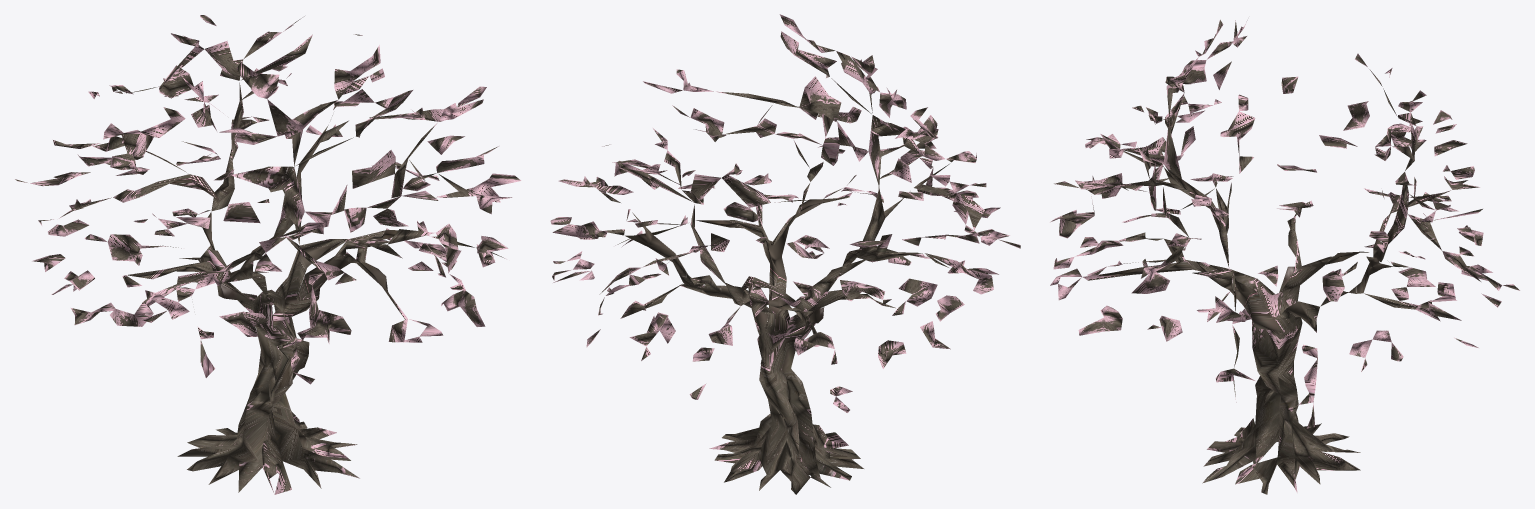
Rendered from cherry-lo.glb.
3 views of the same model, side by side, from view 1: azimuth 30°, elevation 25°; view 2: azimuth 150°, elevation 25°; view 3: azimuth 270°, elevation 25° (orthographic). The views are drawn at different scales.
Size of the model in its own units: 5.1 by 5.03 by 5.16.
1 material, 1 textured.
